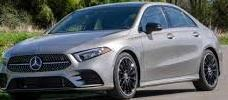Cars: (3, 4, 222, 99)
